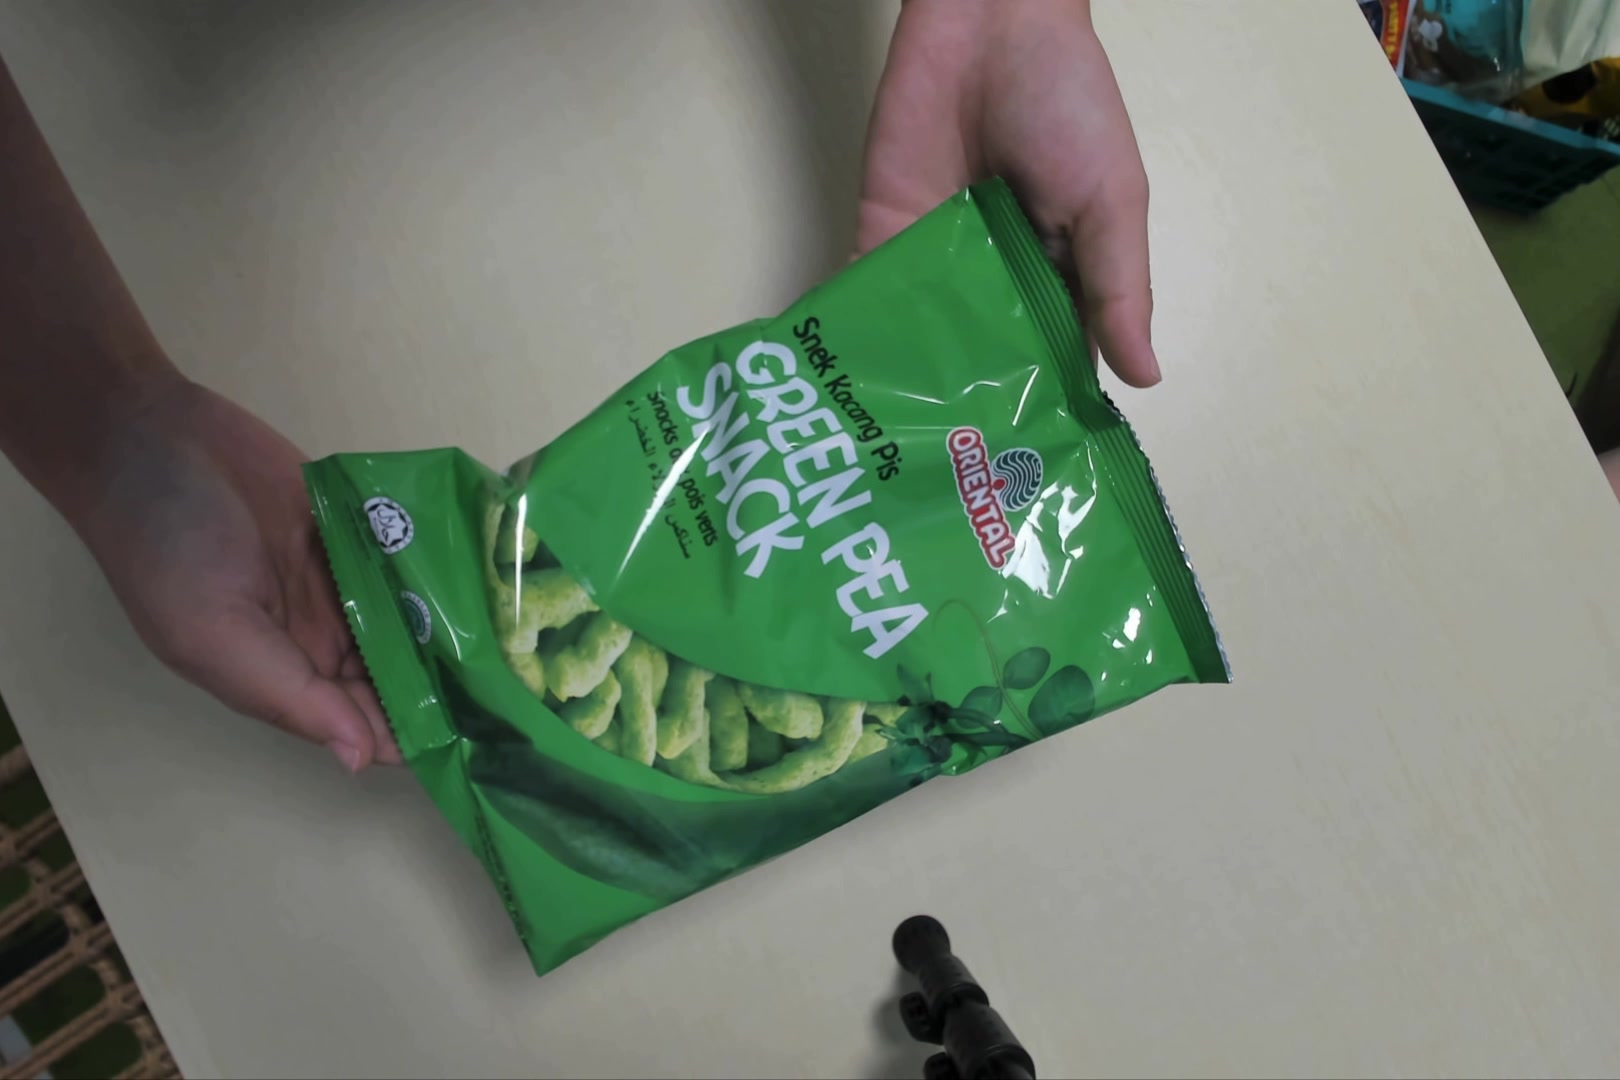Nuts_100-199g_Halal_NonHealthy: (325, 198, 1245, 978)
